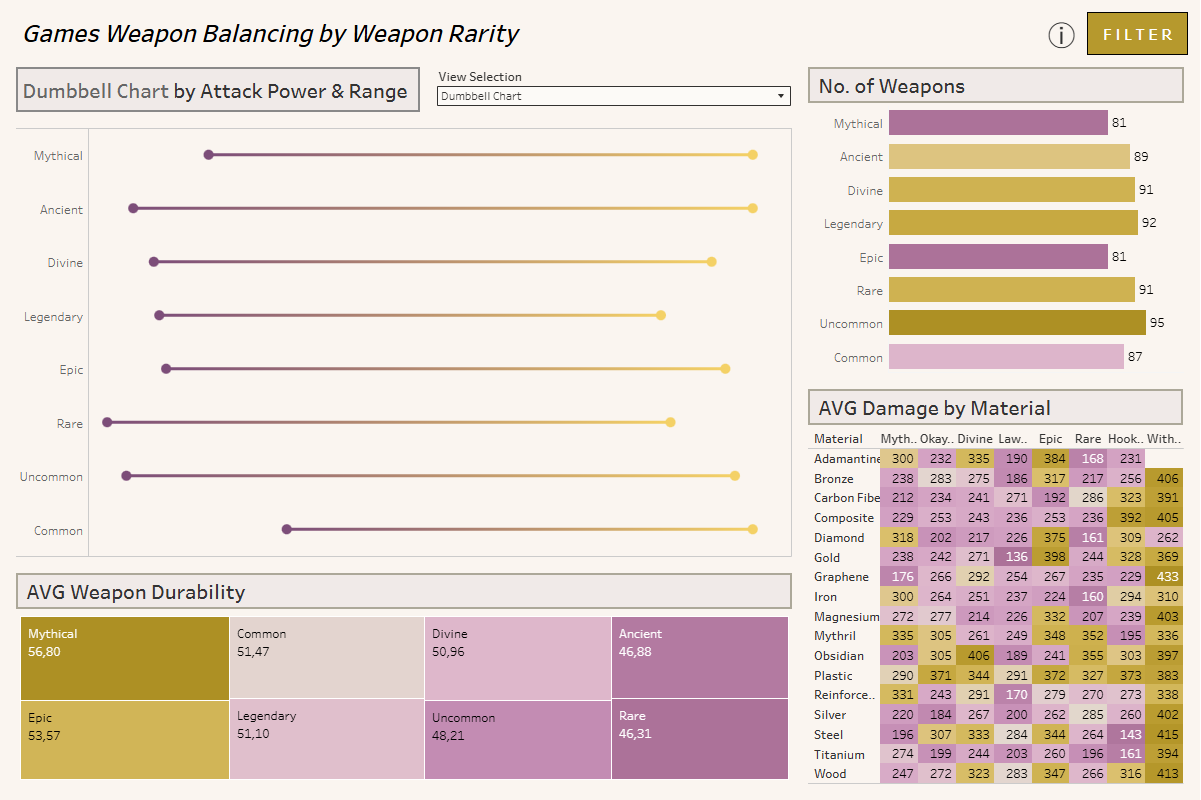

The dashboard page shown, as its layout file describes it:
{"tool":"tableau","page":{"name":"Games Weapon Balancing by Weapon Rarity","canvas":[1200,800],"ordinal":0},"visuals":[{"type":"text","box":[8,8,791,49]},{"type":"blank","box":[799,8,241,51]},{"type":"worksheet","title":"Info Button","mark":"Automatic","box":[1040,8,43,51]},{"type":"dashboard-object","box":[1083,8,109,51]},{"type":"text","box":[8,59,420,61]},{"type":"parameter","param":"[Parameters].[Parameter 1]","box":[428,59,372,61]},{"type":"worksheet","title":"Nr. of Weapons","mark":"Bar","rows":["Rarity"],"cols":["weapons_dataset_unbalanced.csv_B943B6A38FA04796848ED95D9D5E0"],"box":[800,59,392,321.9]},{"type":"text","box":[924,66,275,47]},{"type":"text","box":[924,113,275,34]},{"type":"worksheet","title":"Damage Range (Dumbbell)","mark":"Circle","rows":["Rarity"],"box":[8,120,792,445]},{"type":"filter","title":"Damage Range (Dumbbell)","param":"[federated.006es6e185jma51a1oxma1fv5ktj].[none:Rarity:nk]","box":[924,147,275,190]},{"type":"highlighter","title":"Nr. of Weapons","param":"[federated.006es6e185jma51a1oxma1fv5ktj].[none:Rarity:nk]","box":[924,337,275,34]},{"type":"blank","box":[924,371,275,38]},{"type":"worksheet","title":"AVG Damage by Material","mark":"Square","rows":["Material"],"cols":["Rarity"],"box":[800,380.9,392,411]},{"type":"text","box":[924,409,275,42]},{"type":"legend","title":"AVG Damage by Material","param":"[federated.006es6e185jma51a1oxma1fv5ktj].[avg:AttackPower:qk]","box":[924,451,275,54]},{"type":"legend","title":"Nr. of Weapons","param":"[federated.006es6e185jma51a1oxma1fv5ktj].[__tableau_internal_object_id__].[cnt:w","box":[924,505,275,53]},{"type":"legend","title":"AVG Weapon Durability","param":"[federated.006es6e185jma51a1oxma1fv5ktj].[avg:Durability:qk]","box":[924,558,275,60]},{"type":"worksheet","title":"AVG Weapon Durability","mark":"Automatic","box":[8,565,792,227]}]}

Visuals, with their boxes in screenshot pixels (x1, y1, x2, y2), scaled from the page's 1200x800 canvas onto the 1201x800 screenshot:
text: [left=8, top=8, right=800, bottom=57]
blank: [left=800, top=8, right=1041, bottom=59]
"Info Button" worksheet: [left=1041, top=8, right=1084, bottom=59]
dashboard-object: [left=1084, top=8, right=1193, bottom=59]
text: [left=8, top=59, right=428, bottom=120]
parameter: [left=428, top=59, right=801, bottom=120]
"Nr. of Weapons" worksheet (Bar marks): [left=801, top=59, right=1193, bottom=381]
text: [left=925, top=66, right=1200, bottom=113]
text: [left=925, top=113, right=1200, bottom=147]
"Damage Range (Dumbbell)" worksheet (Circle marks): [left=8, top=120, right=801, bottom=565]
"Damage Range (Dumbbell)" filter: [left=925, top=147, right=1200, bottom=337]
"Nr. of Weapons" highlighter: [left=925, top=337, right=1200, bottom=371]
blank: [left=925, top=371, right=1200, bottom=409]
"AVG Damage by Material" worksheet (Square marks): [left=801, top=381, right=1193, bottom=792]
text: [left=925, top=409, right=1200, bottom=451]
"AVG Damage by Material" legend: [left=925, top=451, right=1200, bottom=505]
"Nr. of Weapons" legend: [left=925, top=505, right=1200, bottom=558]
"AVG Weapon Durability" legend: [left=925, top=558, right=1200, bottom=618]
"AVG Weapon Durability" worksheet: [left=8, top=565, right=801, bottom=792]
